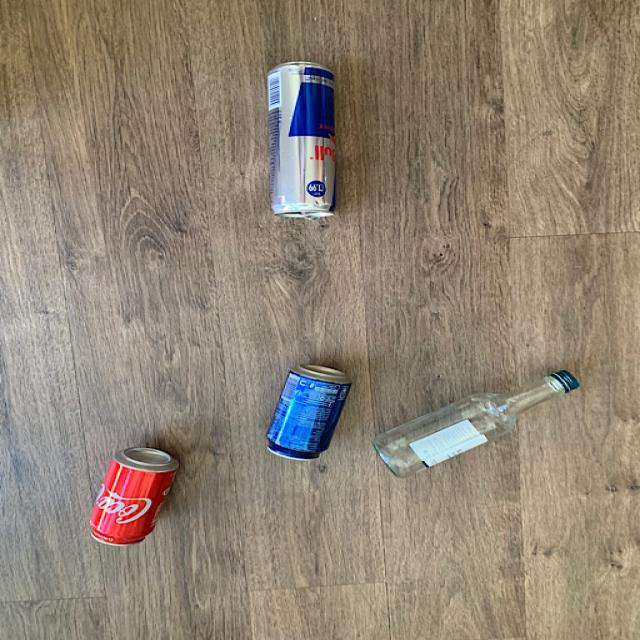litter: (374, 368, 585, 480), (264, 58, 346, 228), (85, 439, 184, 550), (259, 358, 355, 468)
